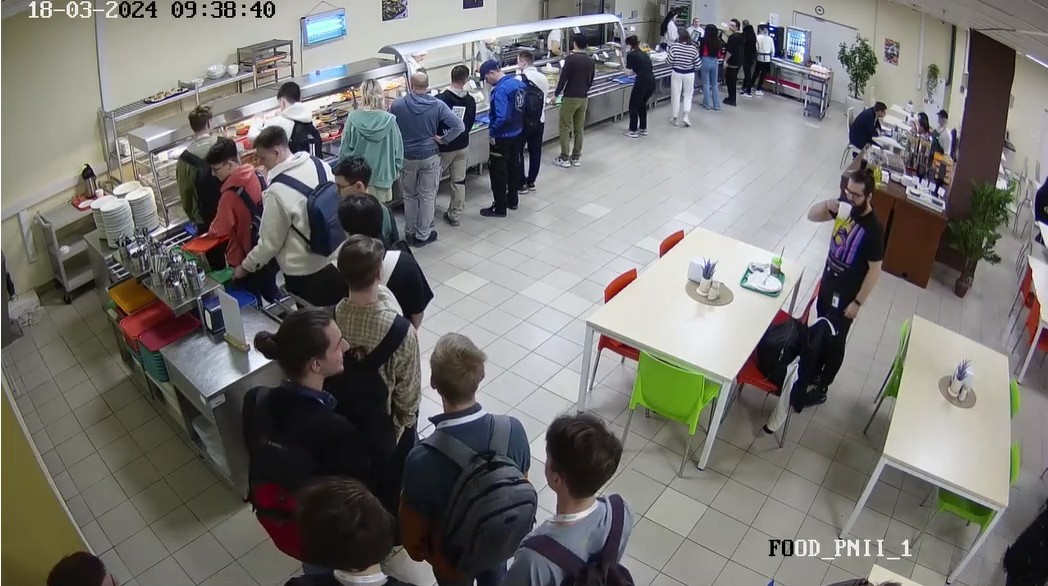Na_Kasse: (723, 18, 747, 104), (699, 21, 722, 106), (743, 19, 755, 101), (756, 22, 768, 92)
Ne_v_Ocheredi: (407, 334, 523, 563), (235, 316, 379, 493), (518, 422, 628, 586), (312, 232, 423, 384), (267, 484, 410, 586), (818, 178, 870, 372), (39, 540, 135, 586), (326, 199, 377, 251), (332, 160, 377, 199)
Personal: (470, 34, 505, 59), (403, 47, 436, 70), (663, 9, 679, 35), (692, 16, 700, 31)
Vybiraet: (240, 133, 326, 300), (392, 69, 443, 250), (186, 144, 261, 254), (336, 72, 400, 167), (480, 68, 518, 215), (437, 66, 472, 222), (178, 107, 232, 208), (559, 32, 594, 165), (511, 48, 540, 186), (269, 79, 318, 159), (668, 29, 696, 123), (624, 30, 643, 134)
Za_Stolom: (845, 102, 893, 158), (912, 102, 950, 151)
